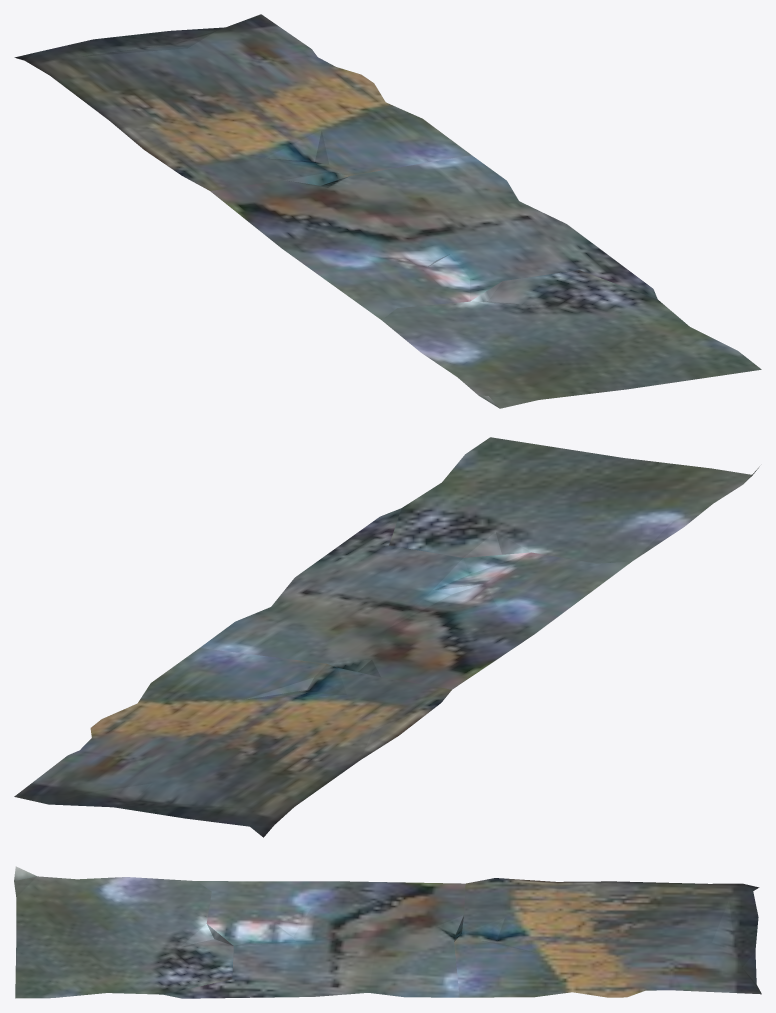
The model's file is meshes_1-dynamic - BLK2GO-3630355-Scan 080 41.obj.
3 renders of one model, top to bottom at view 1: azimuth 30°, elevation 25°; view 2: azimuth 150°, elevation 25°; view 3: azimuth 270°, elevation 25°, orthographic. The views are drawn at different scales.
Visible parts, largest first — view 1: 1-dynamic_-_BLK2GO-3630355-Scan_080_41_0; view 2: 1-dynamic_-_BLK2GO-3630355-Scan_080_41_0; view 3: 1-dynamic_-_BLK2GO-3630355-Scan_080_41_0.
Boxes of the visible parts, x1,y1,x2,y2 form: 1-dynamic_-_BLK2GO-3630355-Scan_080_41_0: (14, 14, 761, 408); 1-dynamic_-_BLK2GO-3630355-Scan_080_41_0: (14, 437, 759, 837); 1-dynamic_-_BLK2GO-3630355-Scan_080_41_0: (14, 866, 761, 998).
Bounding box in the file's own units: 0.6512 × 0.0969 × 2.02.
1 material, 1 textured.
